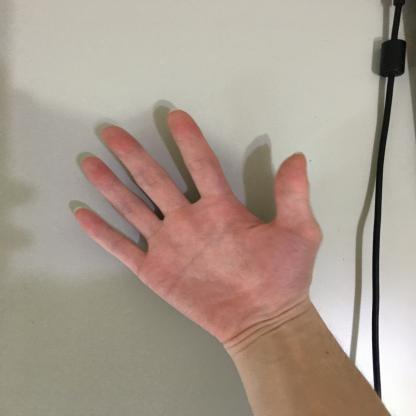bare_hand: (56, 102, 330, 354)
